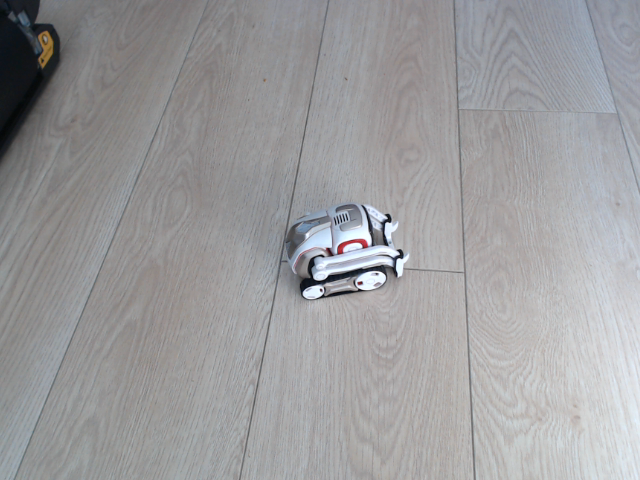cozmo: (279, 202, 411, 304)
